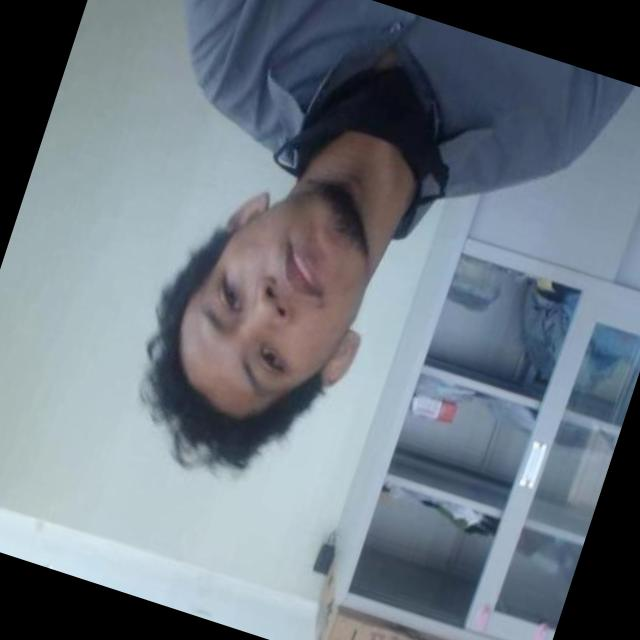bareface: (88, 132, 495, 548)
